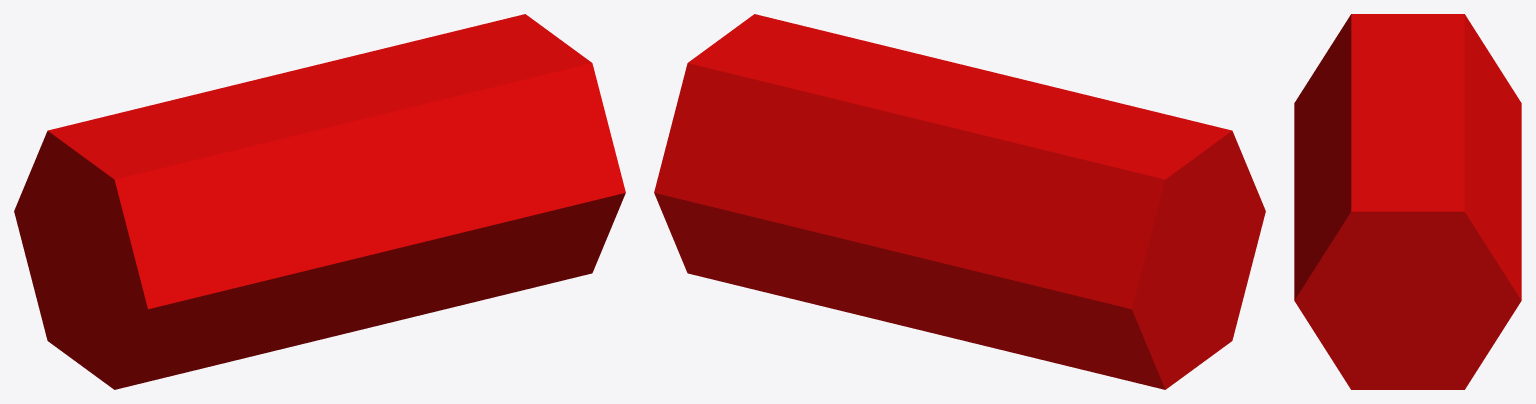
Rendered from corda.fbx.
3 renders of one model, left to right at view 1: azimuth 30°, elevation 25°; view 2: azimuth 150°, elevation 25°; view 3: azimuth 270°, elevation 25°, orthographic. The views are drawn at different scales.
Parts seen in each view (by area): view 1: pCylinder4; view 2: pCylinder4; view 3: pCylinder4.
Part boxes in pixels (x1,y1,x2,y2): pCylinder4: [14, 14, 625, 389]; pCylinder4: [654, 14, 1265, 389]; pCylinder4: [1294, 14, 1521, 389].
Size of the model in its own units: 16.31 by 6.86 by 7.92.
